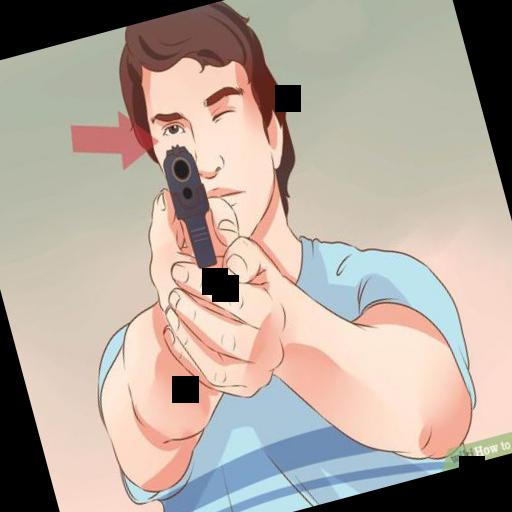Handgun: (155, 136, 226, 272)
